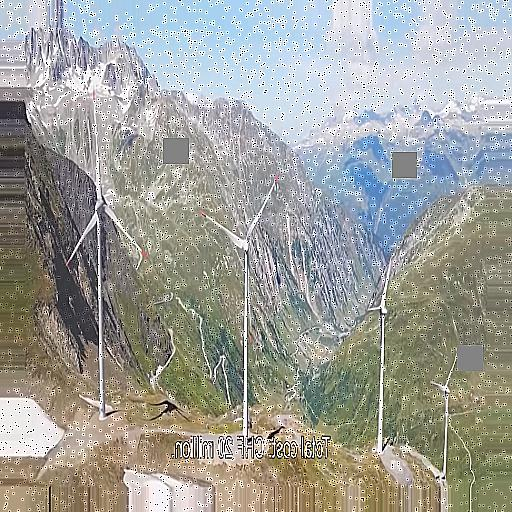wind turbine: (64, 82, 150, 414), (200, 172, 282, 424), (362, 257, 393, 453), (428, 349, 458, 476)
